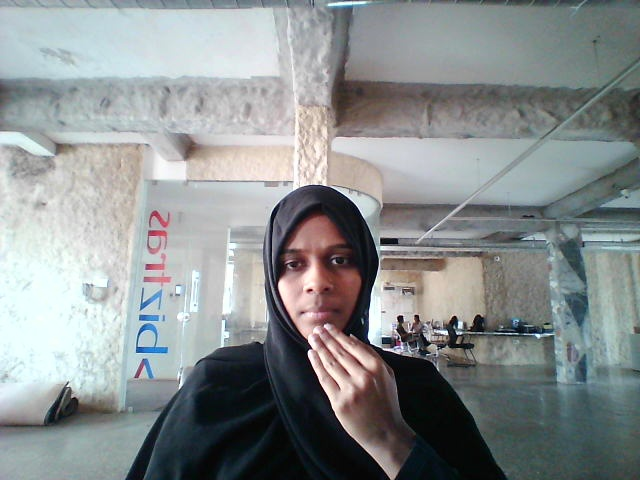THANKS: (287, 315, 445, 472)
